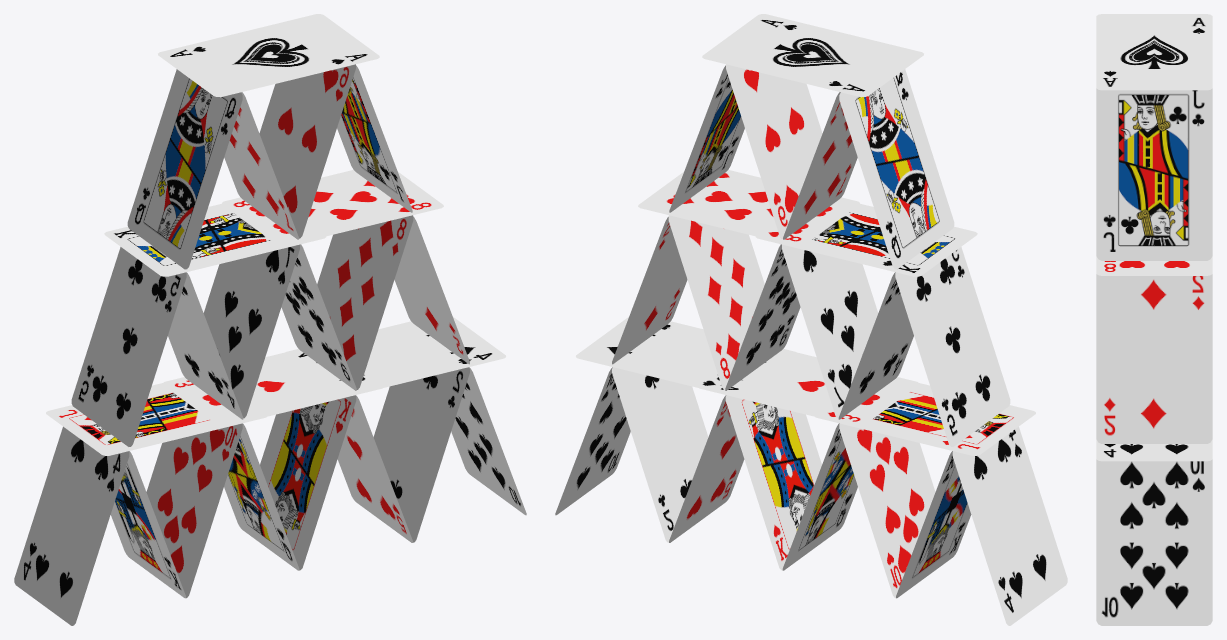
Rendered from TowerUnfinished_00.fbx.
The picture shows the model from 3 angles, left to right: view 1: azimuth 30°, elevation 25°; view 2: azimuth 150°, elevation 25°; view 3: azimuth 270°, elevation 25°; orthographic projection. The views are drawn at different scales.
Parts seen in each view (by area): view 1: Spade_Club, Heart_Diamond; view 2: Spade_Club, Heart_Diamond; view 3: Spade_Club, Heart_Diamond.
Boxes of the visible parts, bbox=[...] form: Spade_Club: bbox=[14, 14, 526, 625]; Heart_Diamond: bbox=[46, 64, 469, 598]; Spade_Club: bbox=[555, 14, 1067, 625]; Heart_Diamond: bbox=[612, 64, 1035, 598]; Spade_Club: bbox=[1096, 14, 1212, 625]; Heart_Diamond: bbox=[1096, 256, 1212, 443].
Size of the model in its own units: 24.31 by 25.34 by 5.7.
